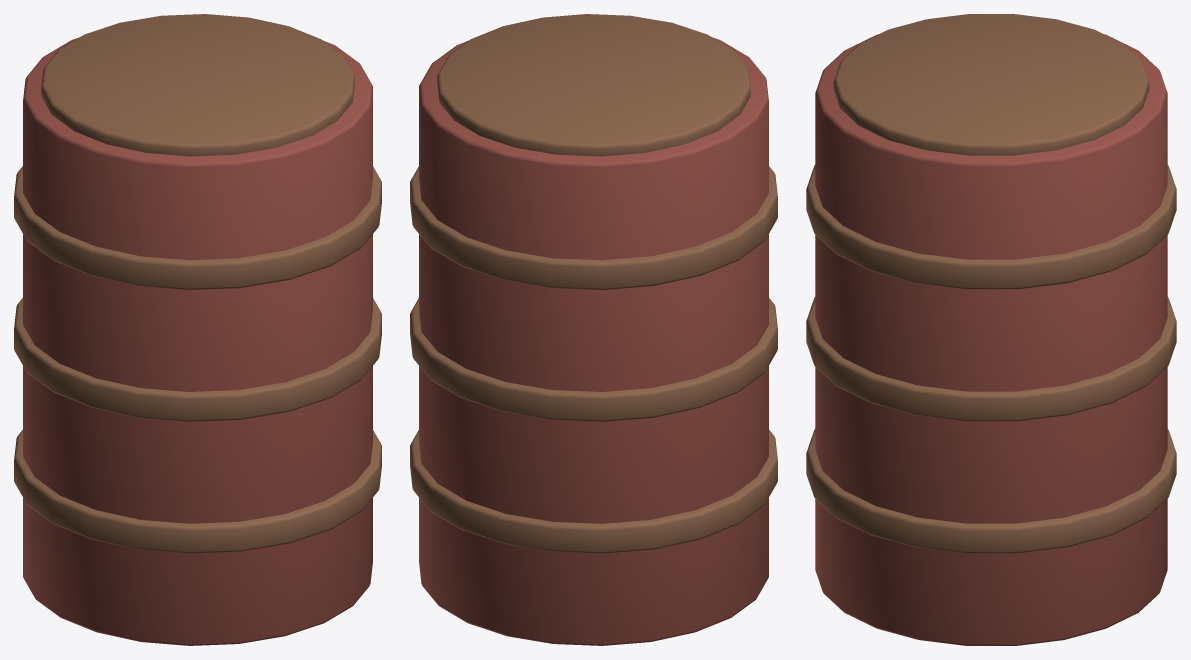
The model's file is prop_drum.glb.
3 views of the same model, side by side, from view 1: azimuth 30°, elevation 25°; view 2: azimuth 150°, elevation 25°; view 3: azimuth 270°, elevation 25° (orthographic).
Visible parts, largest first — view 1: Cylinder, Cylinder.004, Cylinder.001, Cylinder.003, Cylinder.002; view 2: Cylinder, Cylinder.004, Cylinder.001, Cylinder.003, Cylinder.002; view 3: Cylinder, Cylinder.004, Cylinder.001, Cylinder.003, Cylinder.002.
Boxes of the visible parts, x1,y1,x2,y2 form: Cylinder: (23,37,372,645); Cylinder.004: (41,14,354,156); Cylinder.001: (14,430,381,553); Cylinder.003: (14,166,381,290); Cylinder.002: (14,298,381,421); Cylinder: (419,37,768,645); Cylinder.004: (437,14,750,156); Cylinder.001: (410,430,777,553); Cylinder.003: (410,166,777,290); Cylinder.002: (410,298,777,421); Cylinder: (815,34,1167,645); Cylinder.004: (833,14,1149,155); Cylinder.001: (806,429,1176,553); Cylinder.003: (806,165,1176,289); Cylinder.002: (806,297,1176,421).
Bounding box in the file's own units: 0.6038 × 0.9 × 0.61.
